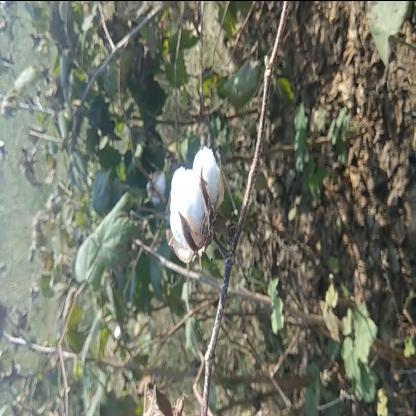cotton_ready: (156, 144, 246, 270)
